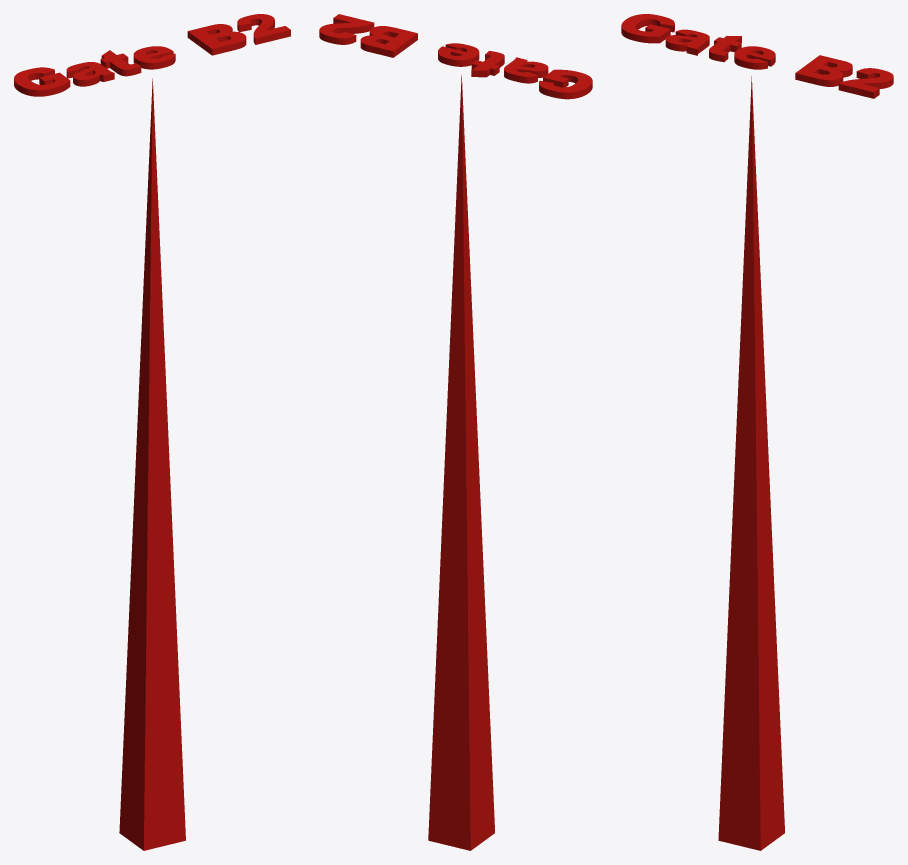
The model's file is Tag_Gate_B2.FBX.
3 views of the same model, side by side, from view 1: azimuth 30°, elevation 25°; view 2: azimuth 150°, elevation 25°; view 3: azimuth 330°, elevation 25° (orthographic).
Parts seen in each view (by area): view 1: Tag_Nail_Gate003, Tag_Text_Gate_04; view 2: Tag_Nail_Gate003, Tag_Text_Gate_04; view 3: Tag_Nail_Gate003, Tag_Text_Gate_04.
Boxes of the visible parts, x1=… form: Tag_Nail_Gate003: x1=119, y1=78, x2=185, y2=850; Tag_Text_Gate_04: x1=14, y1=14, x2=290, y2=96; Tag_Nail_Gate003: x1=428, y1=75, x2=494, y2=850; Tag_Text_Gate_04: x1=319, y1=14, x2=592, y2=99; Tag_Nail_Gate003: x1=718, y1=76, x2=784, y2=850; Tag_Text_Gate_04: x1=621, y1=14, x2=893, y2=98.
Bounding box in the file's own units: 679 × 1944 × 132.
